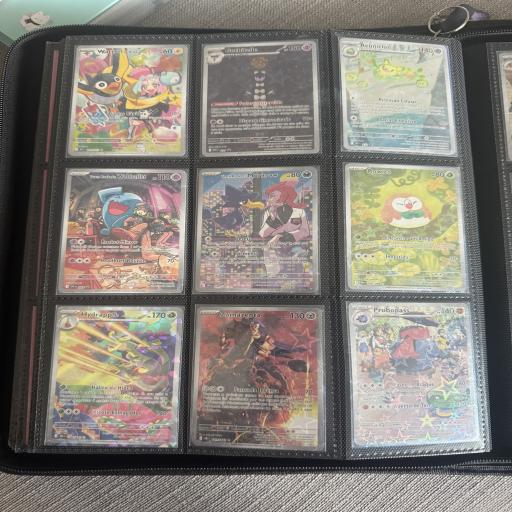card: (191, 303, 329, 451), (348, 297, 480, 446), (46, 304, 183, 445), (345, 161, 469, 295), (57, 168, 187, 294), (195, 166, 320, 293), (334, 38, 462, 155), (196, 41, 322, 159), (67, 44, 188, 156)
